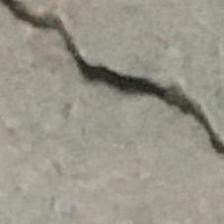Crack: (0, 2, 224, 177)
